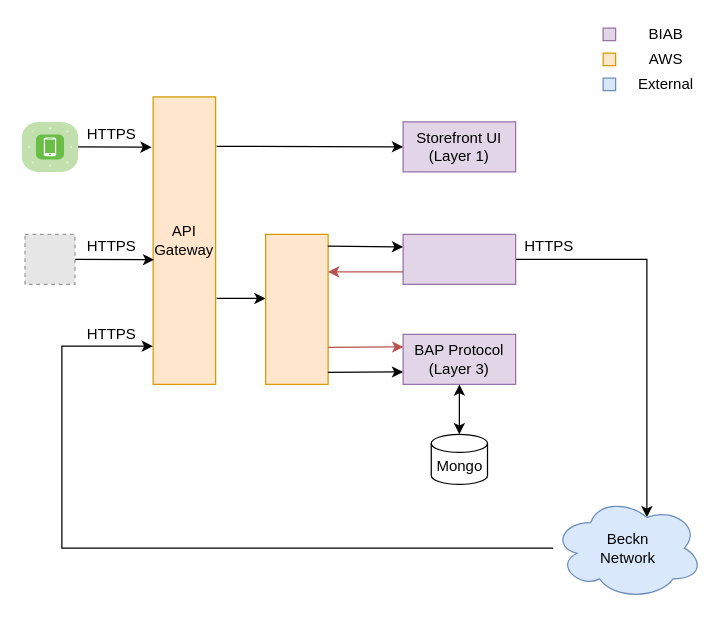
Image size: 725x621. Some labels were removed from this diagram. Grey dashed boxes stand in for pictures. The shapes that lost their labels are listed below. From the top down, each one's centre as x and y in pixels, then its label:
[459,258]: BAP Client (Layer 2)
[296,308]: Load Balancer
